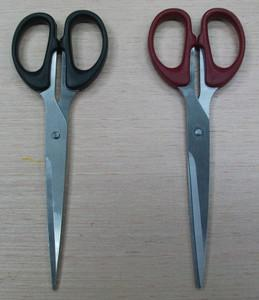scissor: (16, 13, 258, 290)
